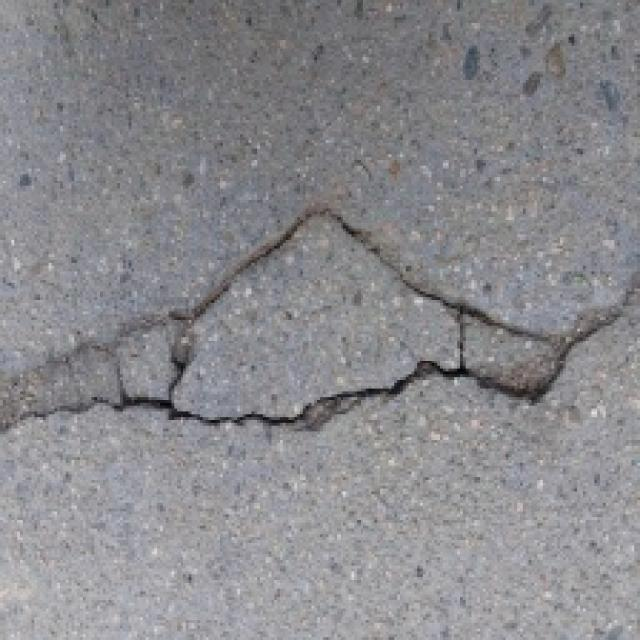SurfaceCrack: (2, 194, 640, 454)
